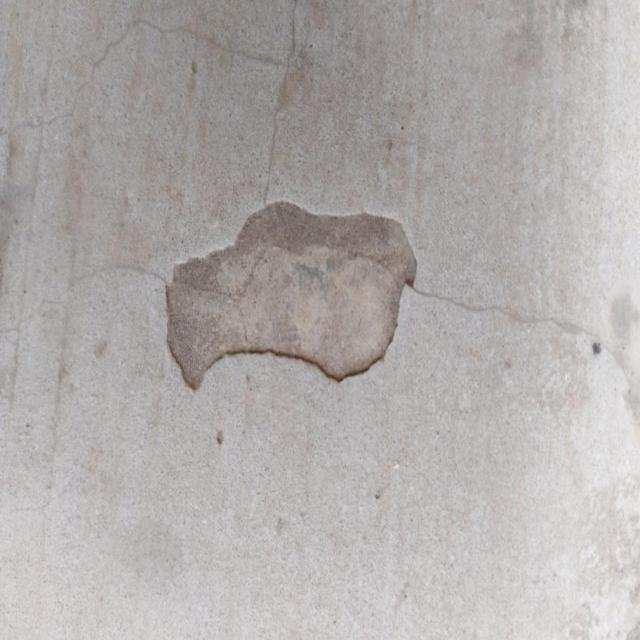concrete spalling: (162, 198, 419, 394)
horizontal crack: (412, 285, 630, 385), (0, 262, 166, 336)
multi-branched crack: (0, 0, 299, 203), (15, 483, 73, 546)
